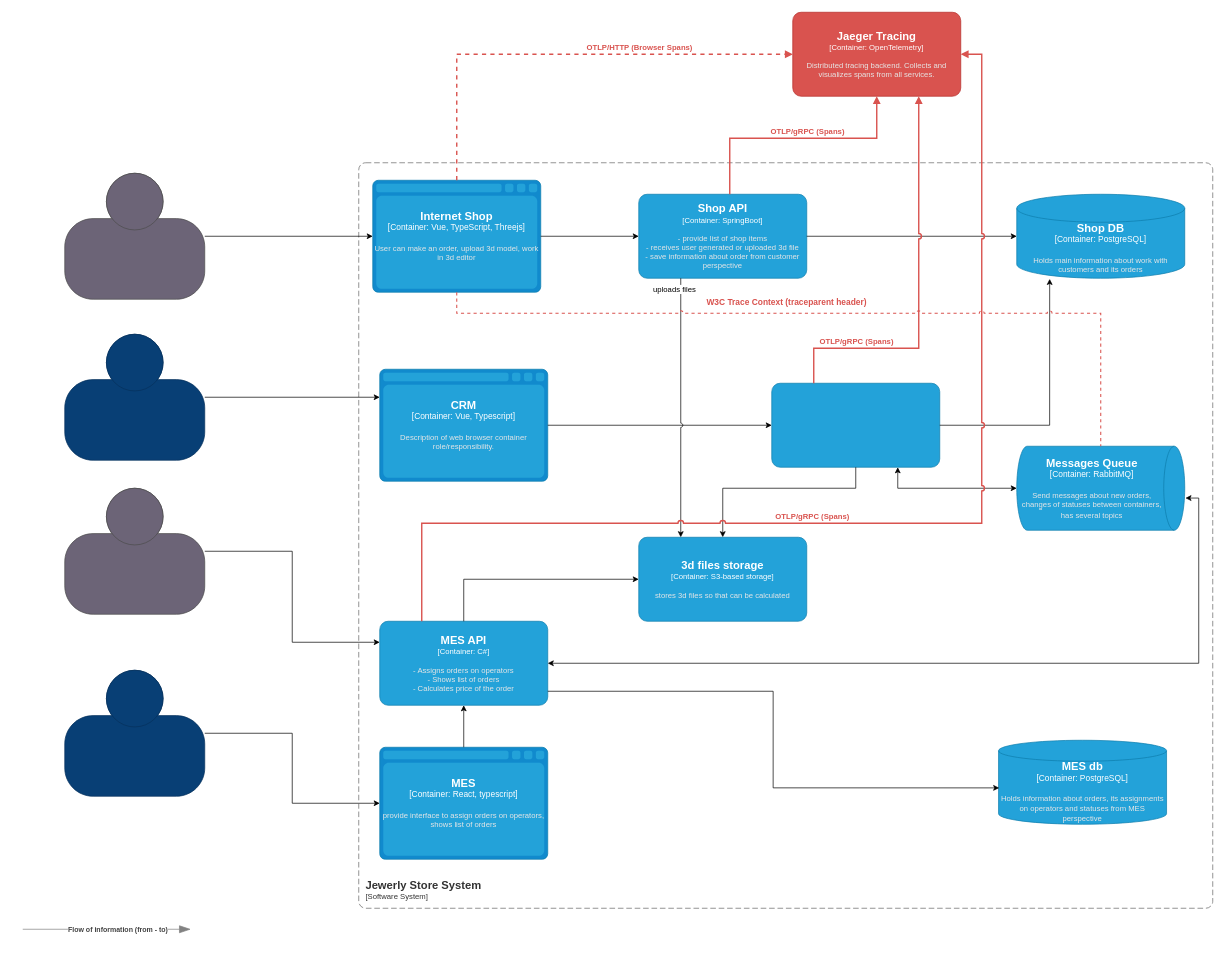
The diagram is 1225 pixels wide and 953 high, and some of its shapes have lost their labels. The centre of each missing label's shape, as x and y in pixels:
API user [Person] Description of external person.: pixel 134 551
CRM API [Container: SpringBoot] Description of container role/responsibility.: pixel 855 425
Customer [Person] Description of external person.: pixel 134 236
Operator [Person] Takes order in work, manufactures jewerly: pixel 134 733
Seller [Person] Operates with order, confirms manufacturing for the user: pixel 134 397
